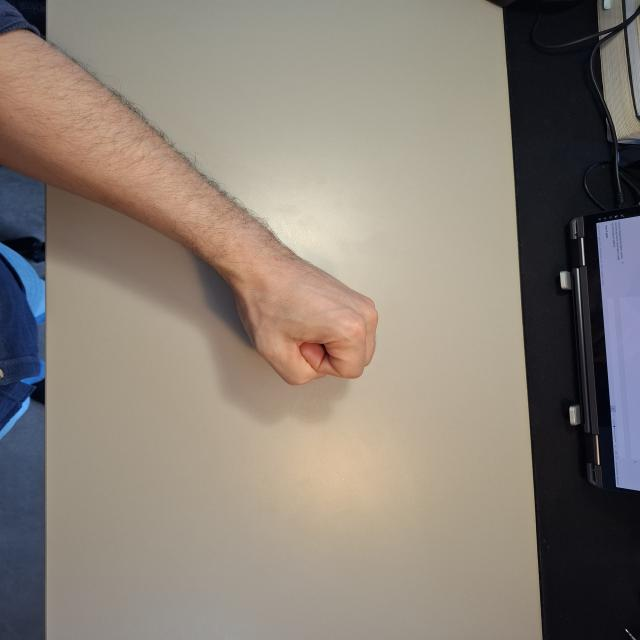glove_off: (225, 251, 384, 387)
